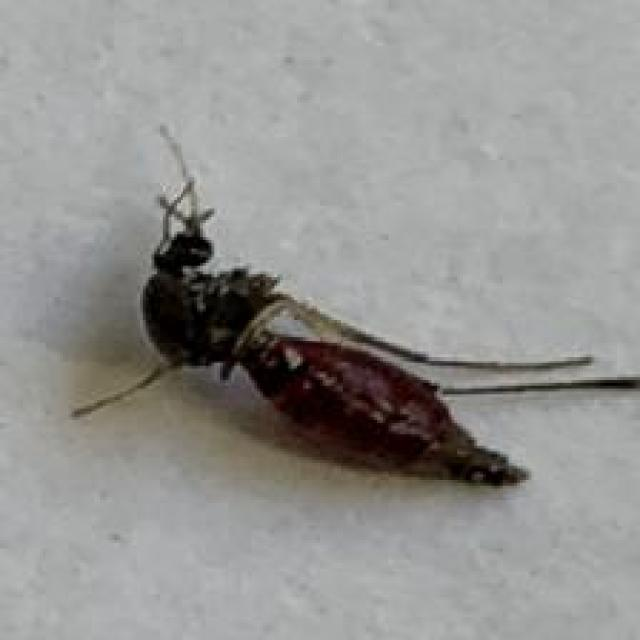Aedes albopictus: (68, 122, 640, 488)
